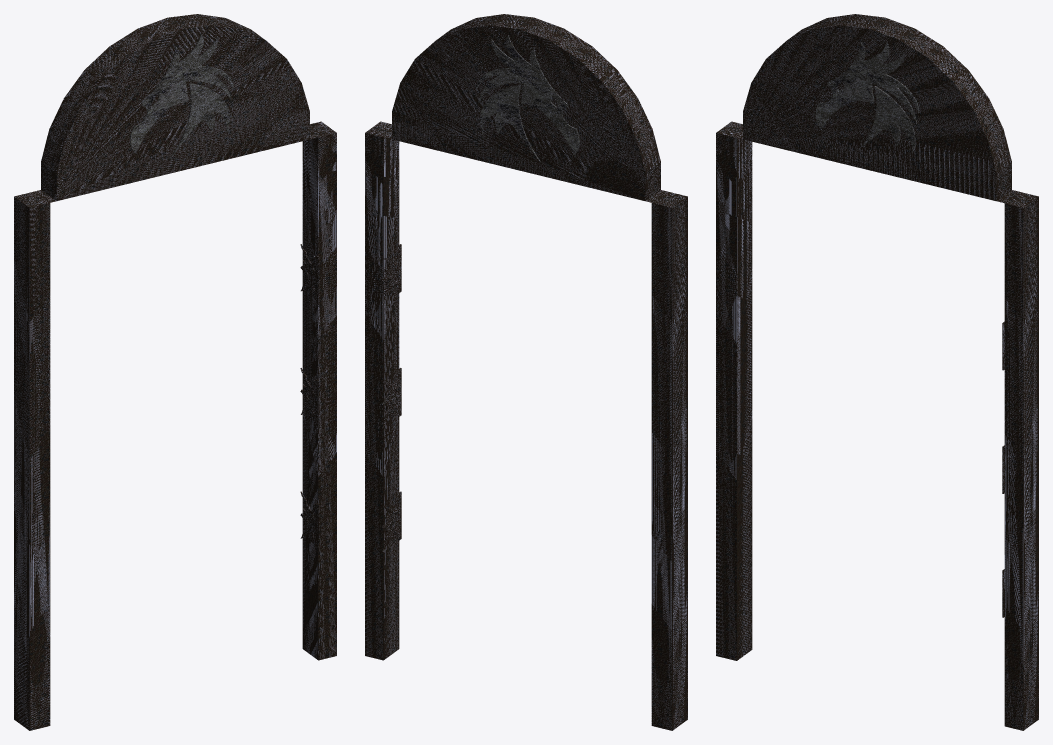
The model's file is DOOR_SINGLE_LEFT_FRAME.fbx.
3 views of the same model, side by side, from view 1: azimuth 30°, elevation 25°; view 2: azimuth 150°, elevation 25°; view 3: azimuth 330°, elevation 25° (orthographic).
Parts seen in each view (by area): view 1: Group3, Group4, Group6; view 2: Group3, Group5, Group6; view 3: Group3, Group4.
Part boxes in pixels (x1,y1,x2,y2): Group3: (14, 14, 336, 730); Group4: (130, 33, 233, 160); Group6: (300, 244, 319, 551); Group3: (365, 14, 687, 730); Group5: (476, 35, 579, 162); Group6: (382, 244, 401, 551); Group3: (716, 14, 1038, 730); Group4: (815, 41, 919, 153).
Size of the model in its own units: 68.25 by 141 by 7.
